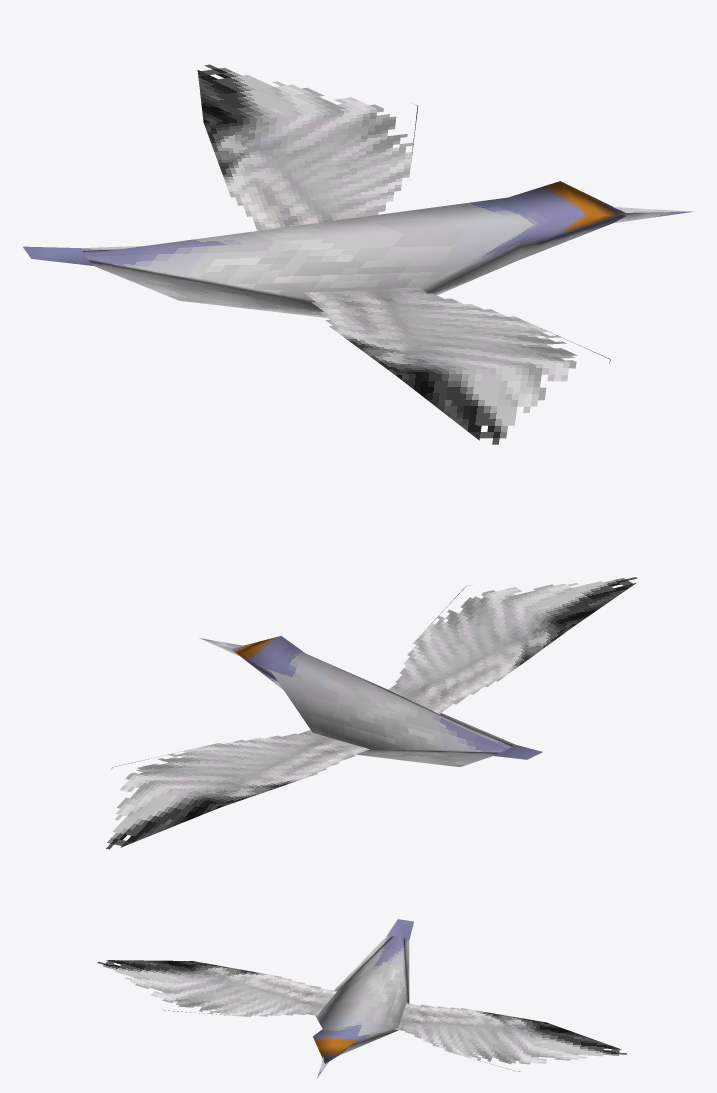
File: INST_LT_SEAGULL_FLYA01.obj
3 renders of one model, top to bottom at view 1: azimuth 30°, elevation 25°; view 2: azimuth 150°, elevation 25°; view 3: azimuth 270°, elevation 25°, orthographic. The views are drawn at different scales.
Visible parts, largest first — view 1: GullBody, GullWingLeft, GullWingRight; view 2: GullBody, GullWingRight, GullWingLeft; view 3: GullWingRight, GullWingLeft, GullBody.
Part boxes in pixels (bbox=[...]): GullBody: bbox=[23, 181, 693, 317]; GullWingLeft: bbox=[197, 64, 418, 230]; GullWingRight: bbox=[304, 287, 610, 444]; GullBody: bbox=[199, 636, 542, 766]; GullWingRight: bbox=[388, 577, 637, 713]; GullWingLeft: bbox=[106, 730, 369, 849]; GullWingRight: bbox=[97, 960, 336, 1017]; GullWingLeft: bbox=[395, 1003, 626, 1071]; GullBody: bbox=[313, 919, 413, 1078].
Size of the model in its own units: 60.87 by 10.84 by 125.
